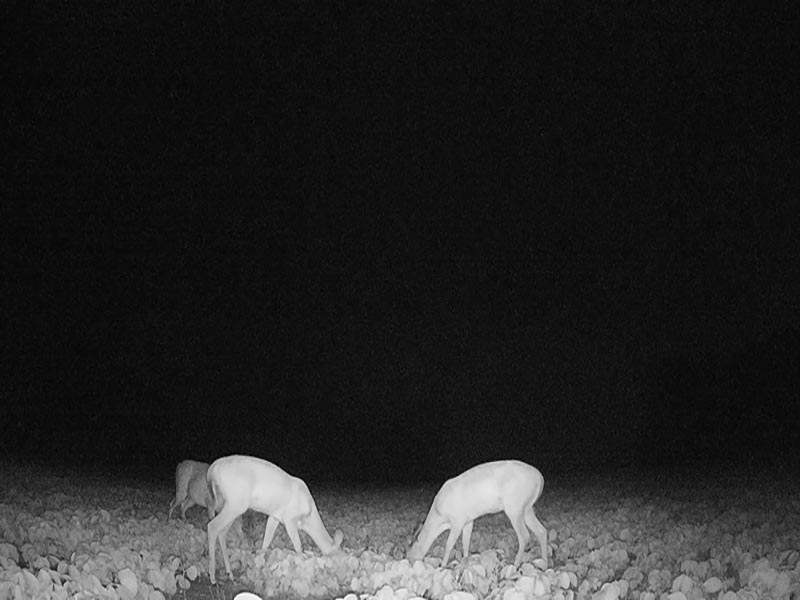cervo: (205, 446, 354, 588), (403, 455, 560, 568)
